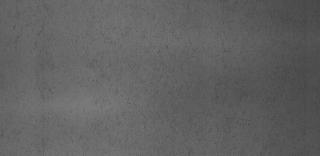silk spot: (90, 12, 254, 118)
